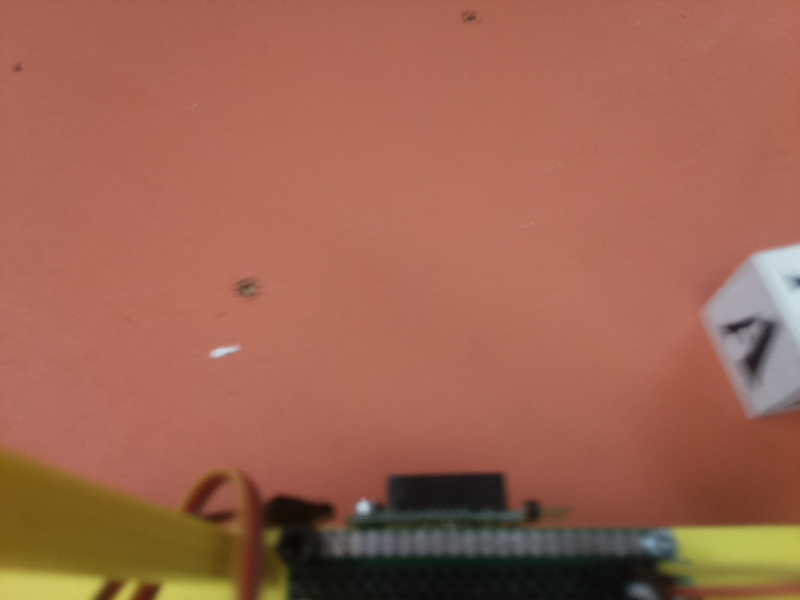blockA: (700, 246, 800, 423)
